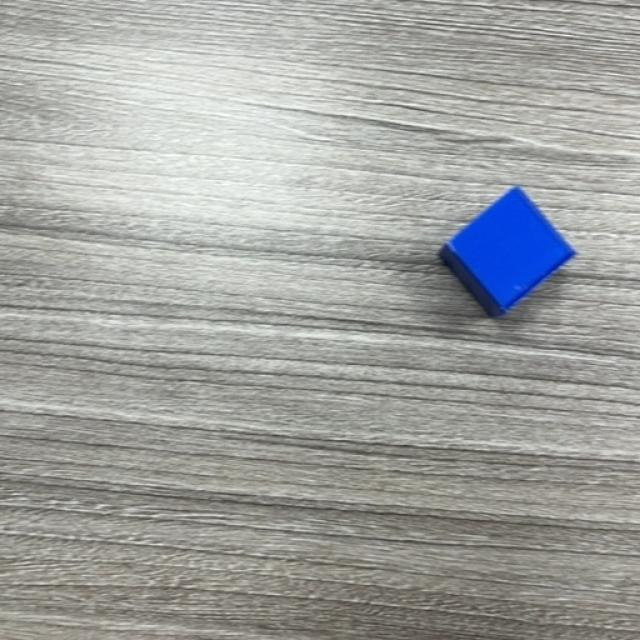Azul: (439, 188, 578, 320)
